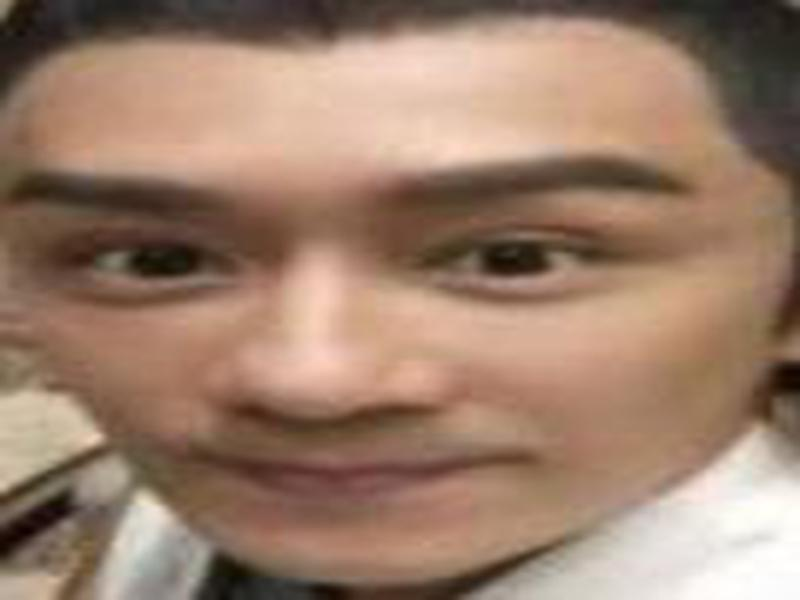without_mask: (4, 59, 751, 585)
